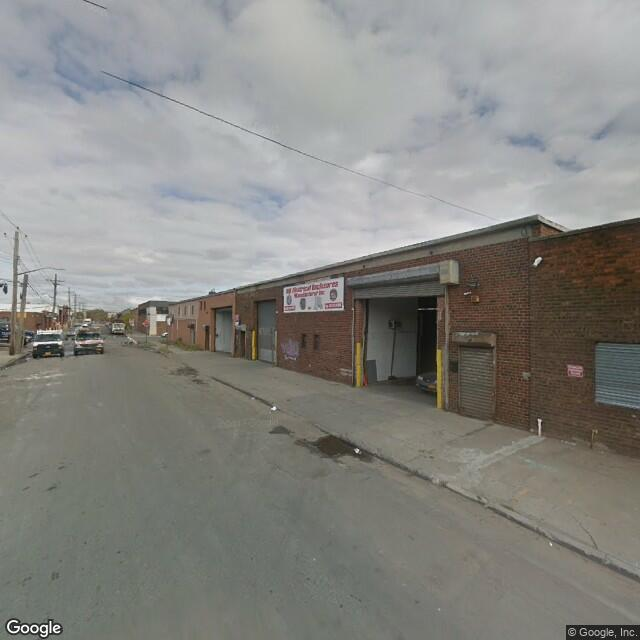litter: (352, 442, 363, 456), (250, 394, 256, 402), (548, 542, 554, 550), (437, 606, 443, 614), (270, 404, 276, 411), (24, 357, 30, 363), (3, 366, 9, 370), (310, 558, 317, 561)
